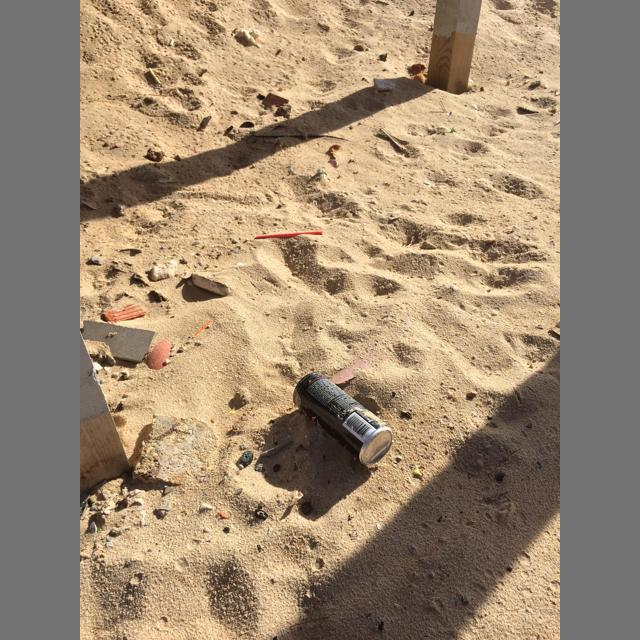litter: (293, 373, 393, 465), (233, 28, 261, 49), (255, 231, 323, 239), (328, 160, 338, 169)
